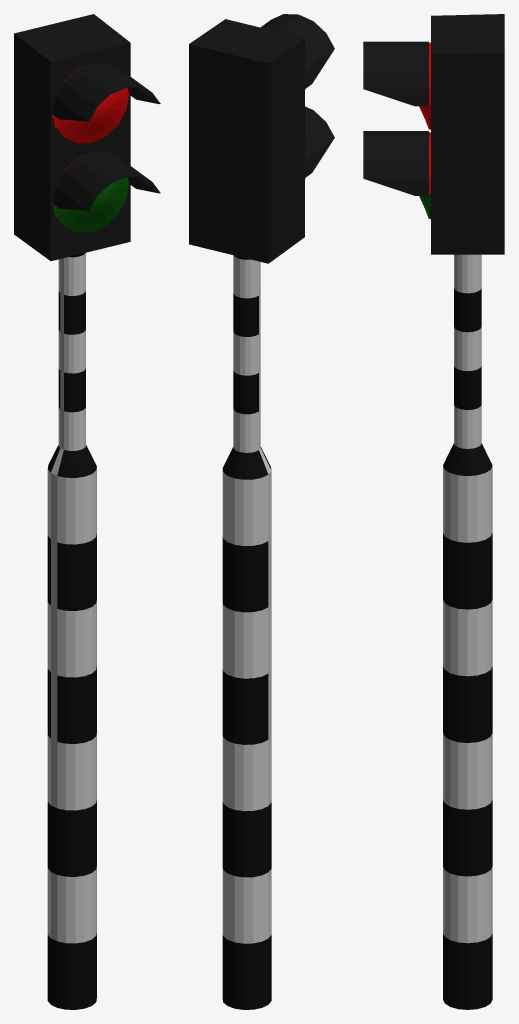
File: PedestrianLight.obj
3 renders of one model, left to right at view 1: azimuth 30°, elevation 25°; view 2: azimuth 150°, elevation 25°; view 3: azimuth 270°, elevation 25°, orthographic.
Visible parts, largest first — view 1: Pedestrian_Light_Cylinder.003, Light_Cube.005; view 2: Pedestrian_Light_Cylinder.003, Light_Cube.005; view 3: Pedestrian_Light_Cylinder.003, Light_Cube.005.
Boxes of the visible parts, x1=… form: Pedestrian_Light_Cylinder.003: x1=47, y1=253, x2=96, y2=1009; Light_Cube.005: x1=14, y1=14, x2=160, y2=260; Pedestrian_Light_Cylinder.003: x1=222, y1=255, x2=271, y2=1009; Light_Cube.005: x1=189, y1=14, x2=334, y2=263; Pedestrian_Light_Cylinder.003: x1=443, y1=254, x2=492, y2=1009; Light_Cube.005: x1=363, y1=14, x2=504, y2=254.
Size of the model in its own units: 0.3641 by 4.2 by 0.556.
